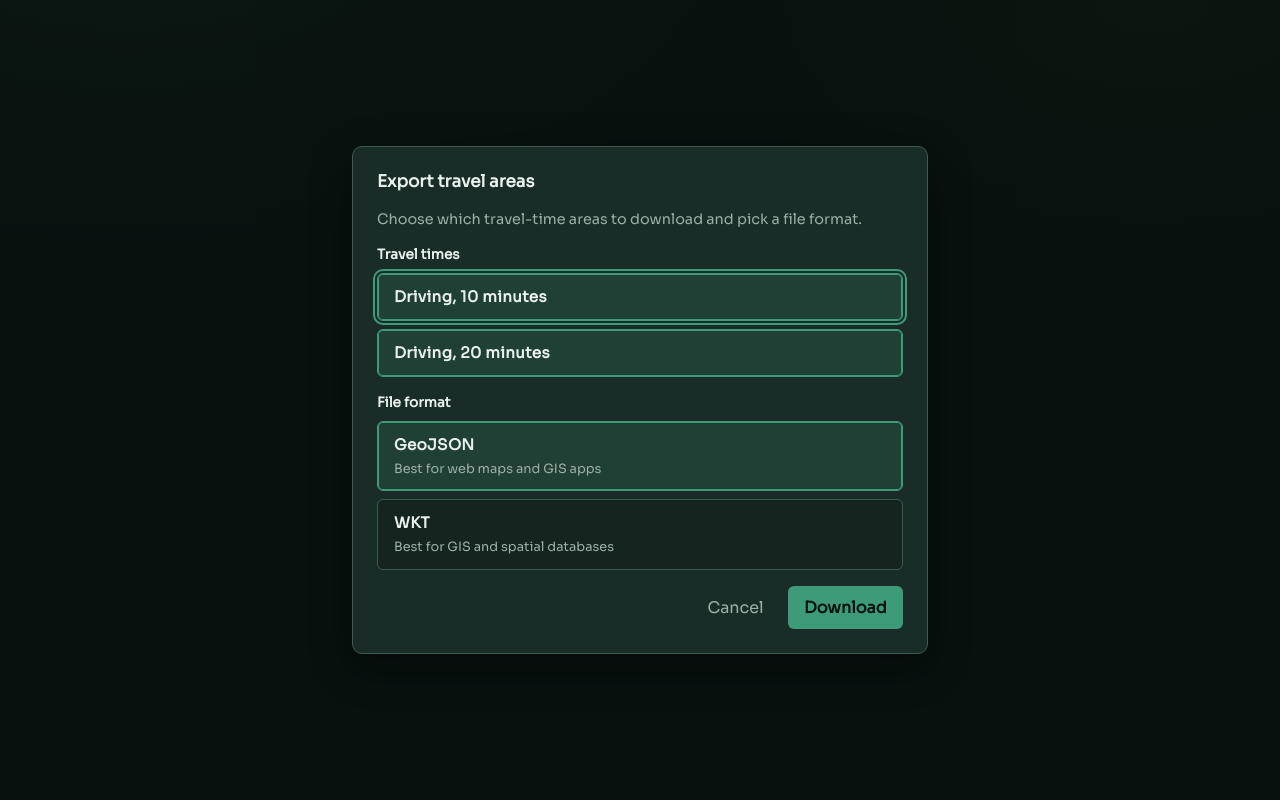
Test: ExportContoursModal › disables export when no contours are selected
The width and height of the screenshot is (1280, 800).
Click the button "Driving, 10 minutes": (470, 296) [377,273,903,321]
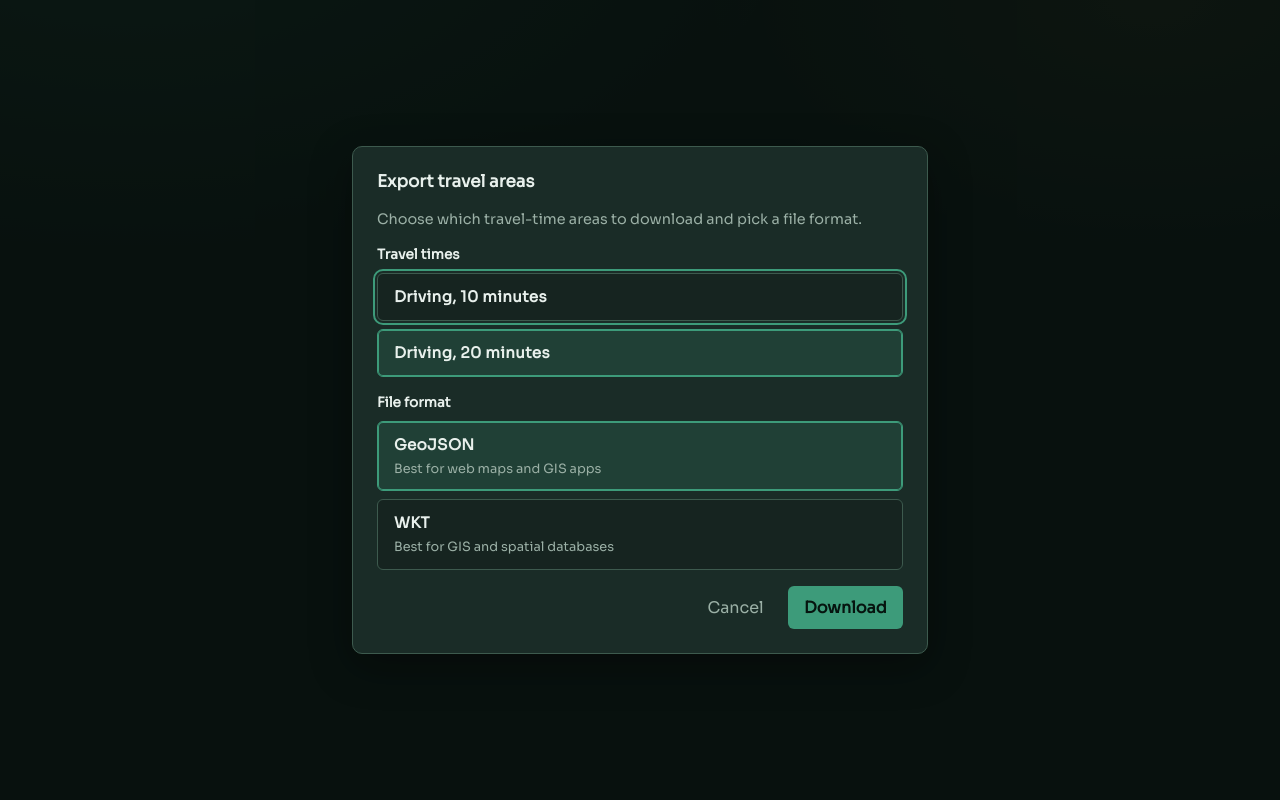
Click the button "Driving, 20 minutes": (472, 353) [377,329,903,377]
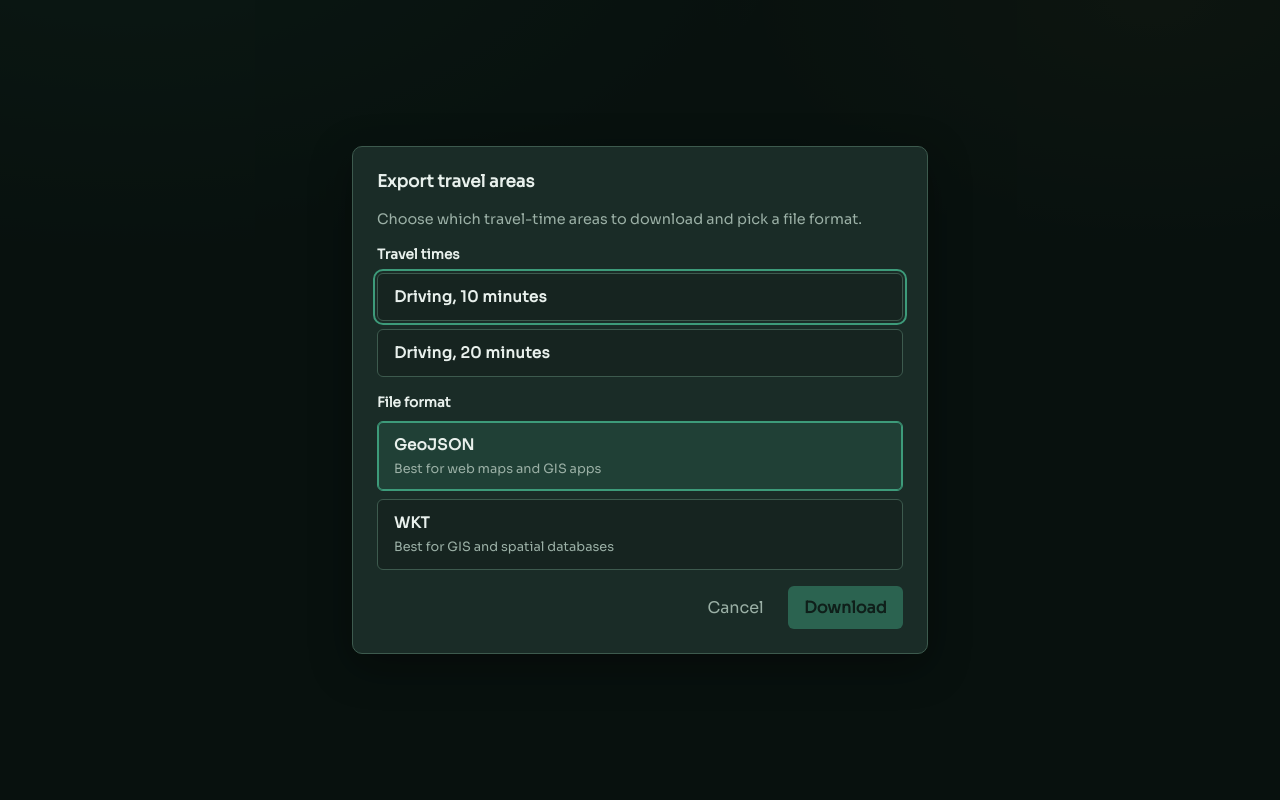
Now the button "Download" is disabled, box [788,586,903,629]
